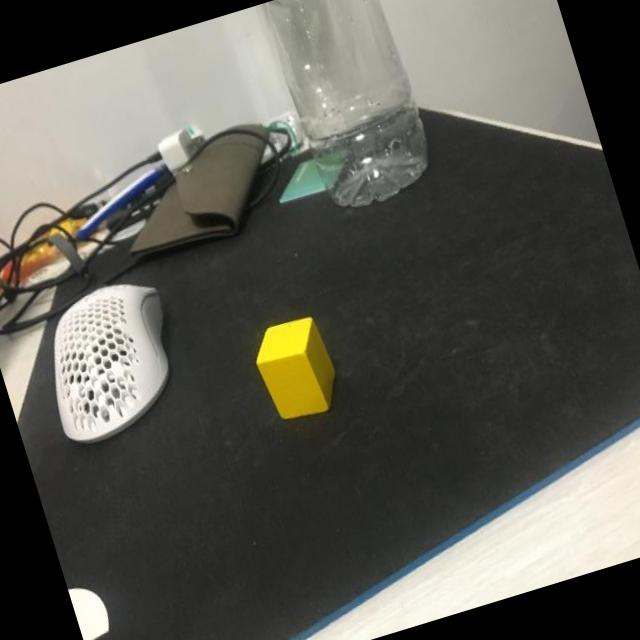yellow: (248, 312, 348, 427)
